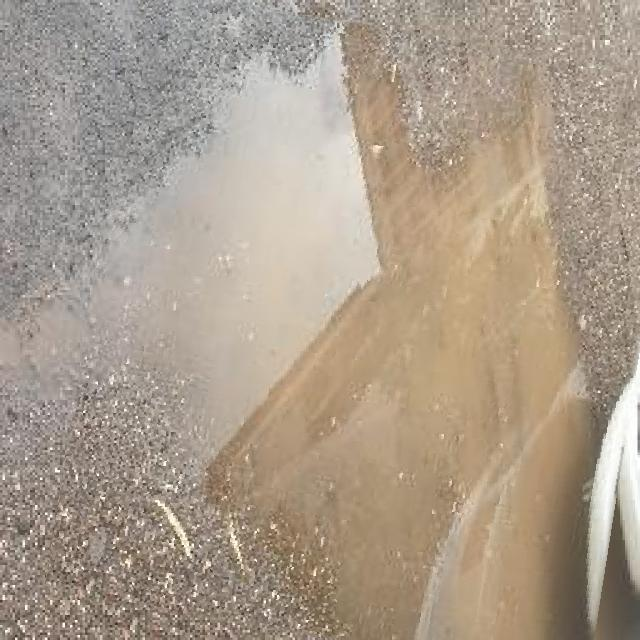puddle: (68, 8, 640, 640)
